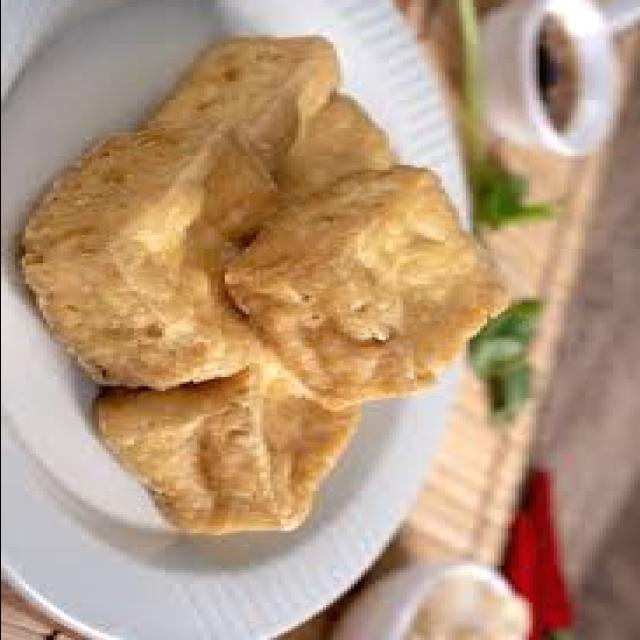tahu goreng: (223, 159, 523, 415)
